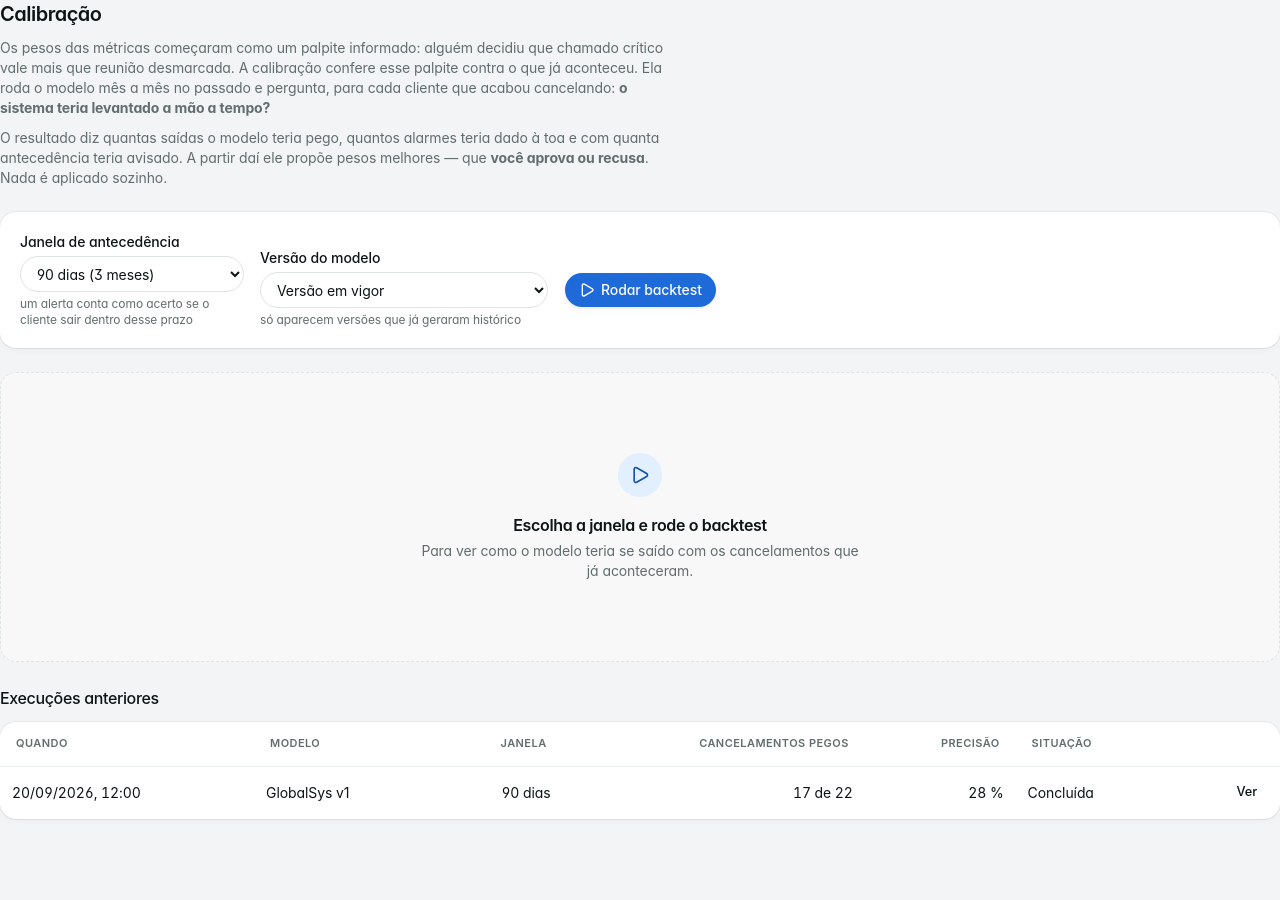
it: tela de calibração › roda o backtest e mostra cada indicador com o que ele significa
This screenshot has width=1280, height=900.
Click the button "Rodar backtest".
click(640, 290)  # box [564,272,717,308]
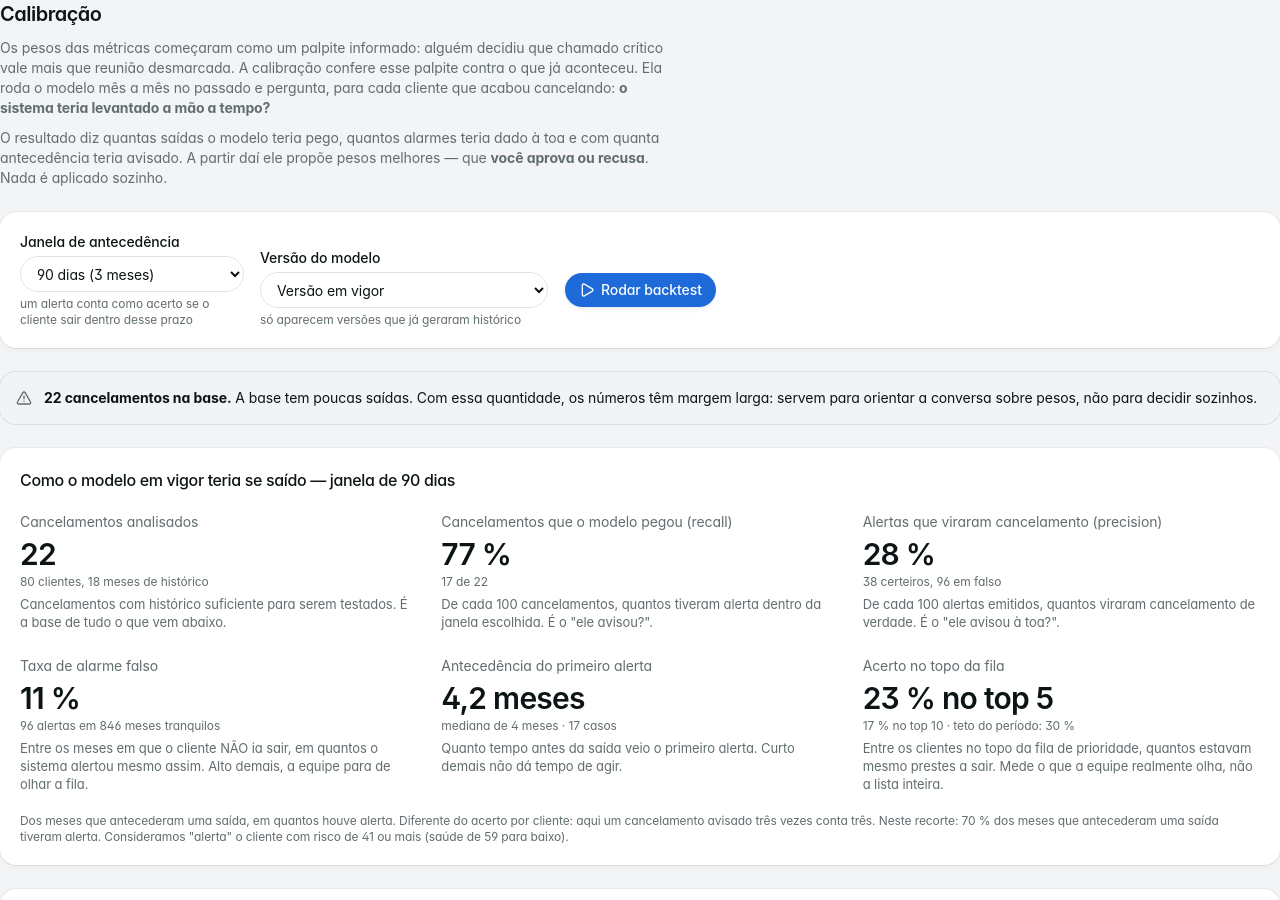
Expected: the element "modelo em vigor" is shown, [0,448,1279,865]
Expected: the text "22" is shown, [20,536,56,572]
Expected: the text "77 %" is shown, [441,536,511,572]
